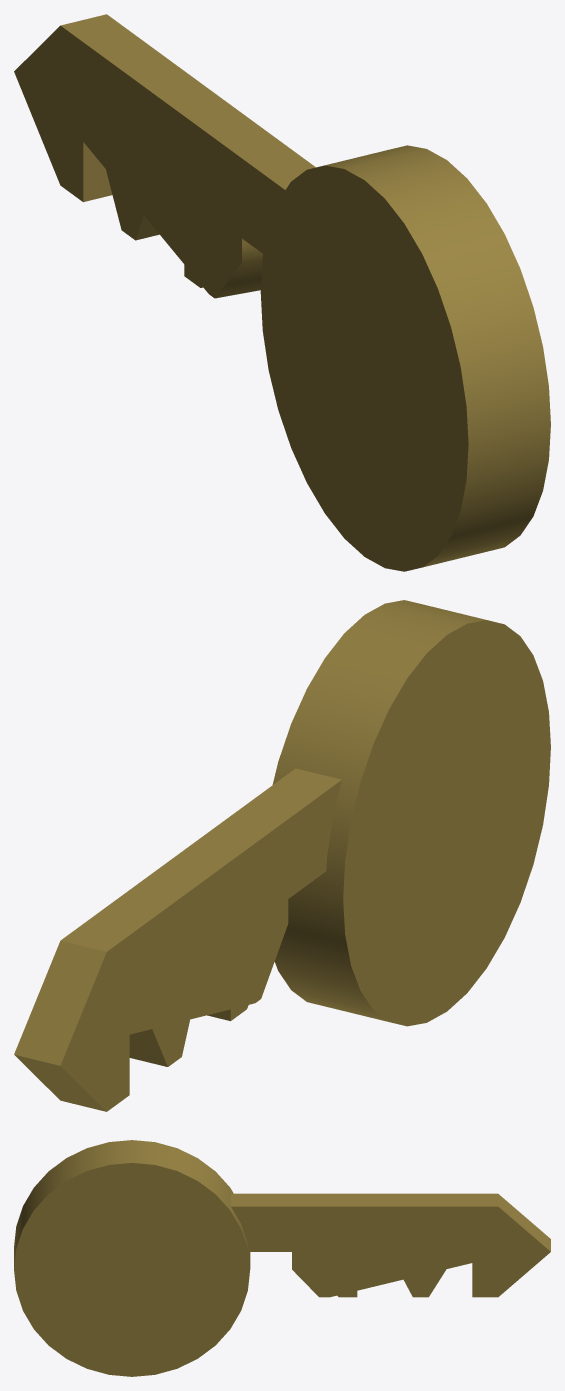
The model's file is kluczxd.fbx.
The picture shows the model from 3 angles, top to bottom: view 1: azimuth 30°, elevation 25°; view 2: azimuth 150°, elevation 25°; view 3: azimuth 270°, elevation 25°; orthographic projection. The views are drawn at different scales.
Parts seen in each view (by area): view 1: Cube.001; view 2: Cube.001; view 3: Cube.001.
Part boxes in pixels (<box>): Cube.001: <box>14,14,550,571</box>; Cube.001: <box>14,600,550,1111</box>; Cube.001: <box>14,1140,550,1376</box>.
Size of the model in its own units: 22.89 by 100 by 227.
